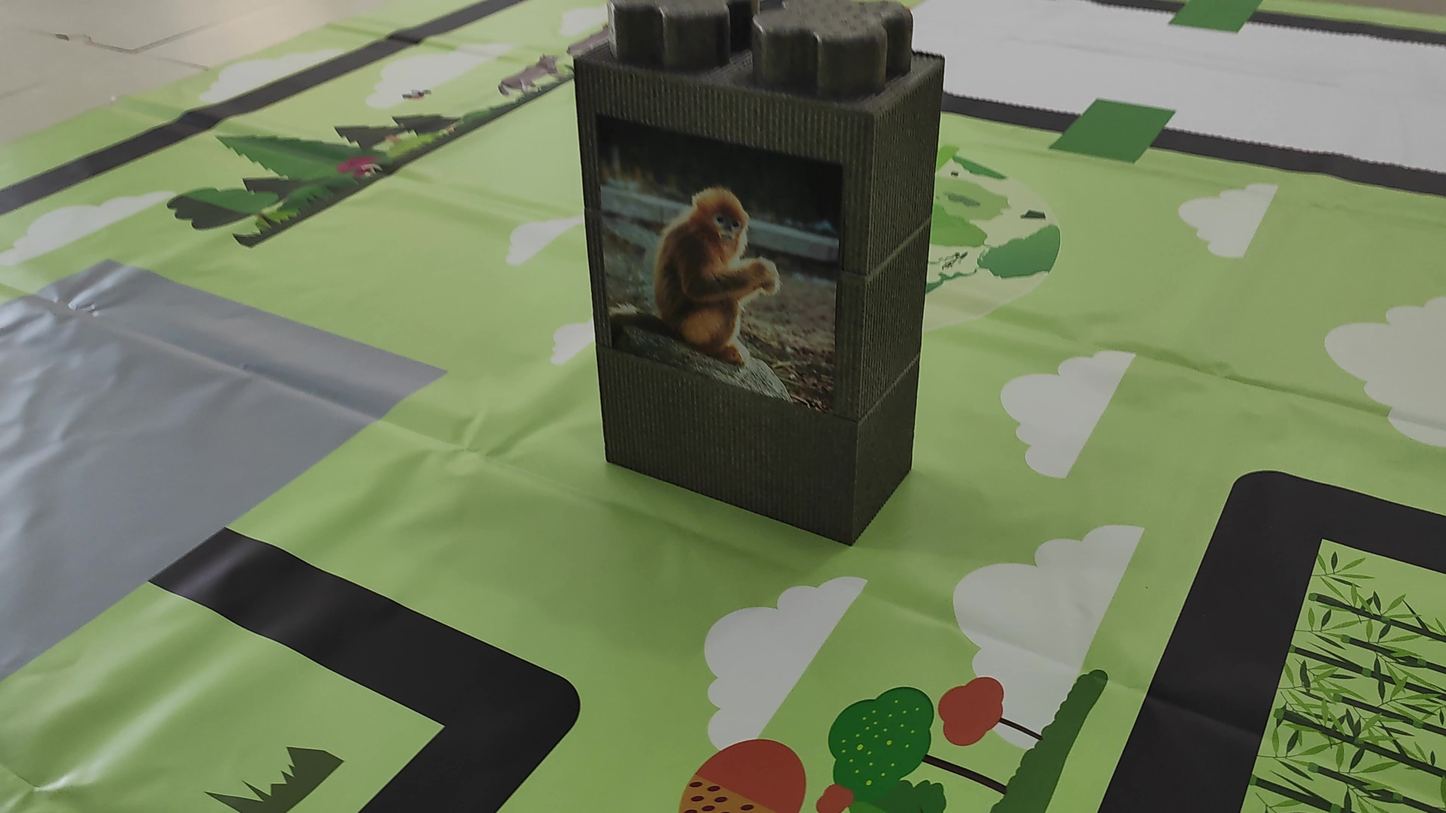monkey: (637, 169, 805, 374)
